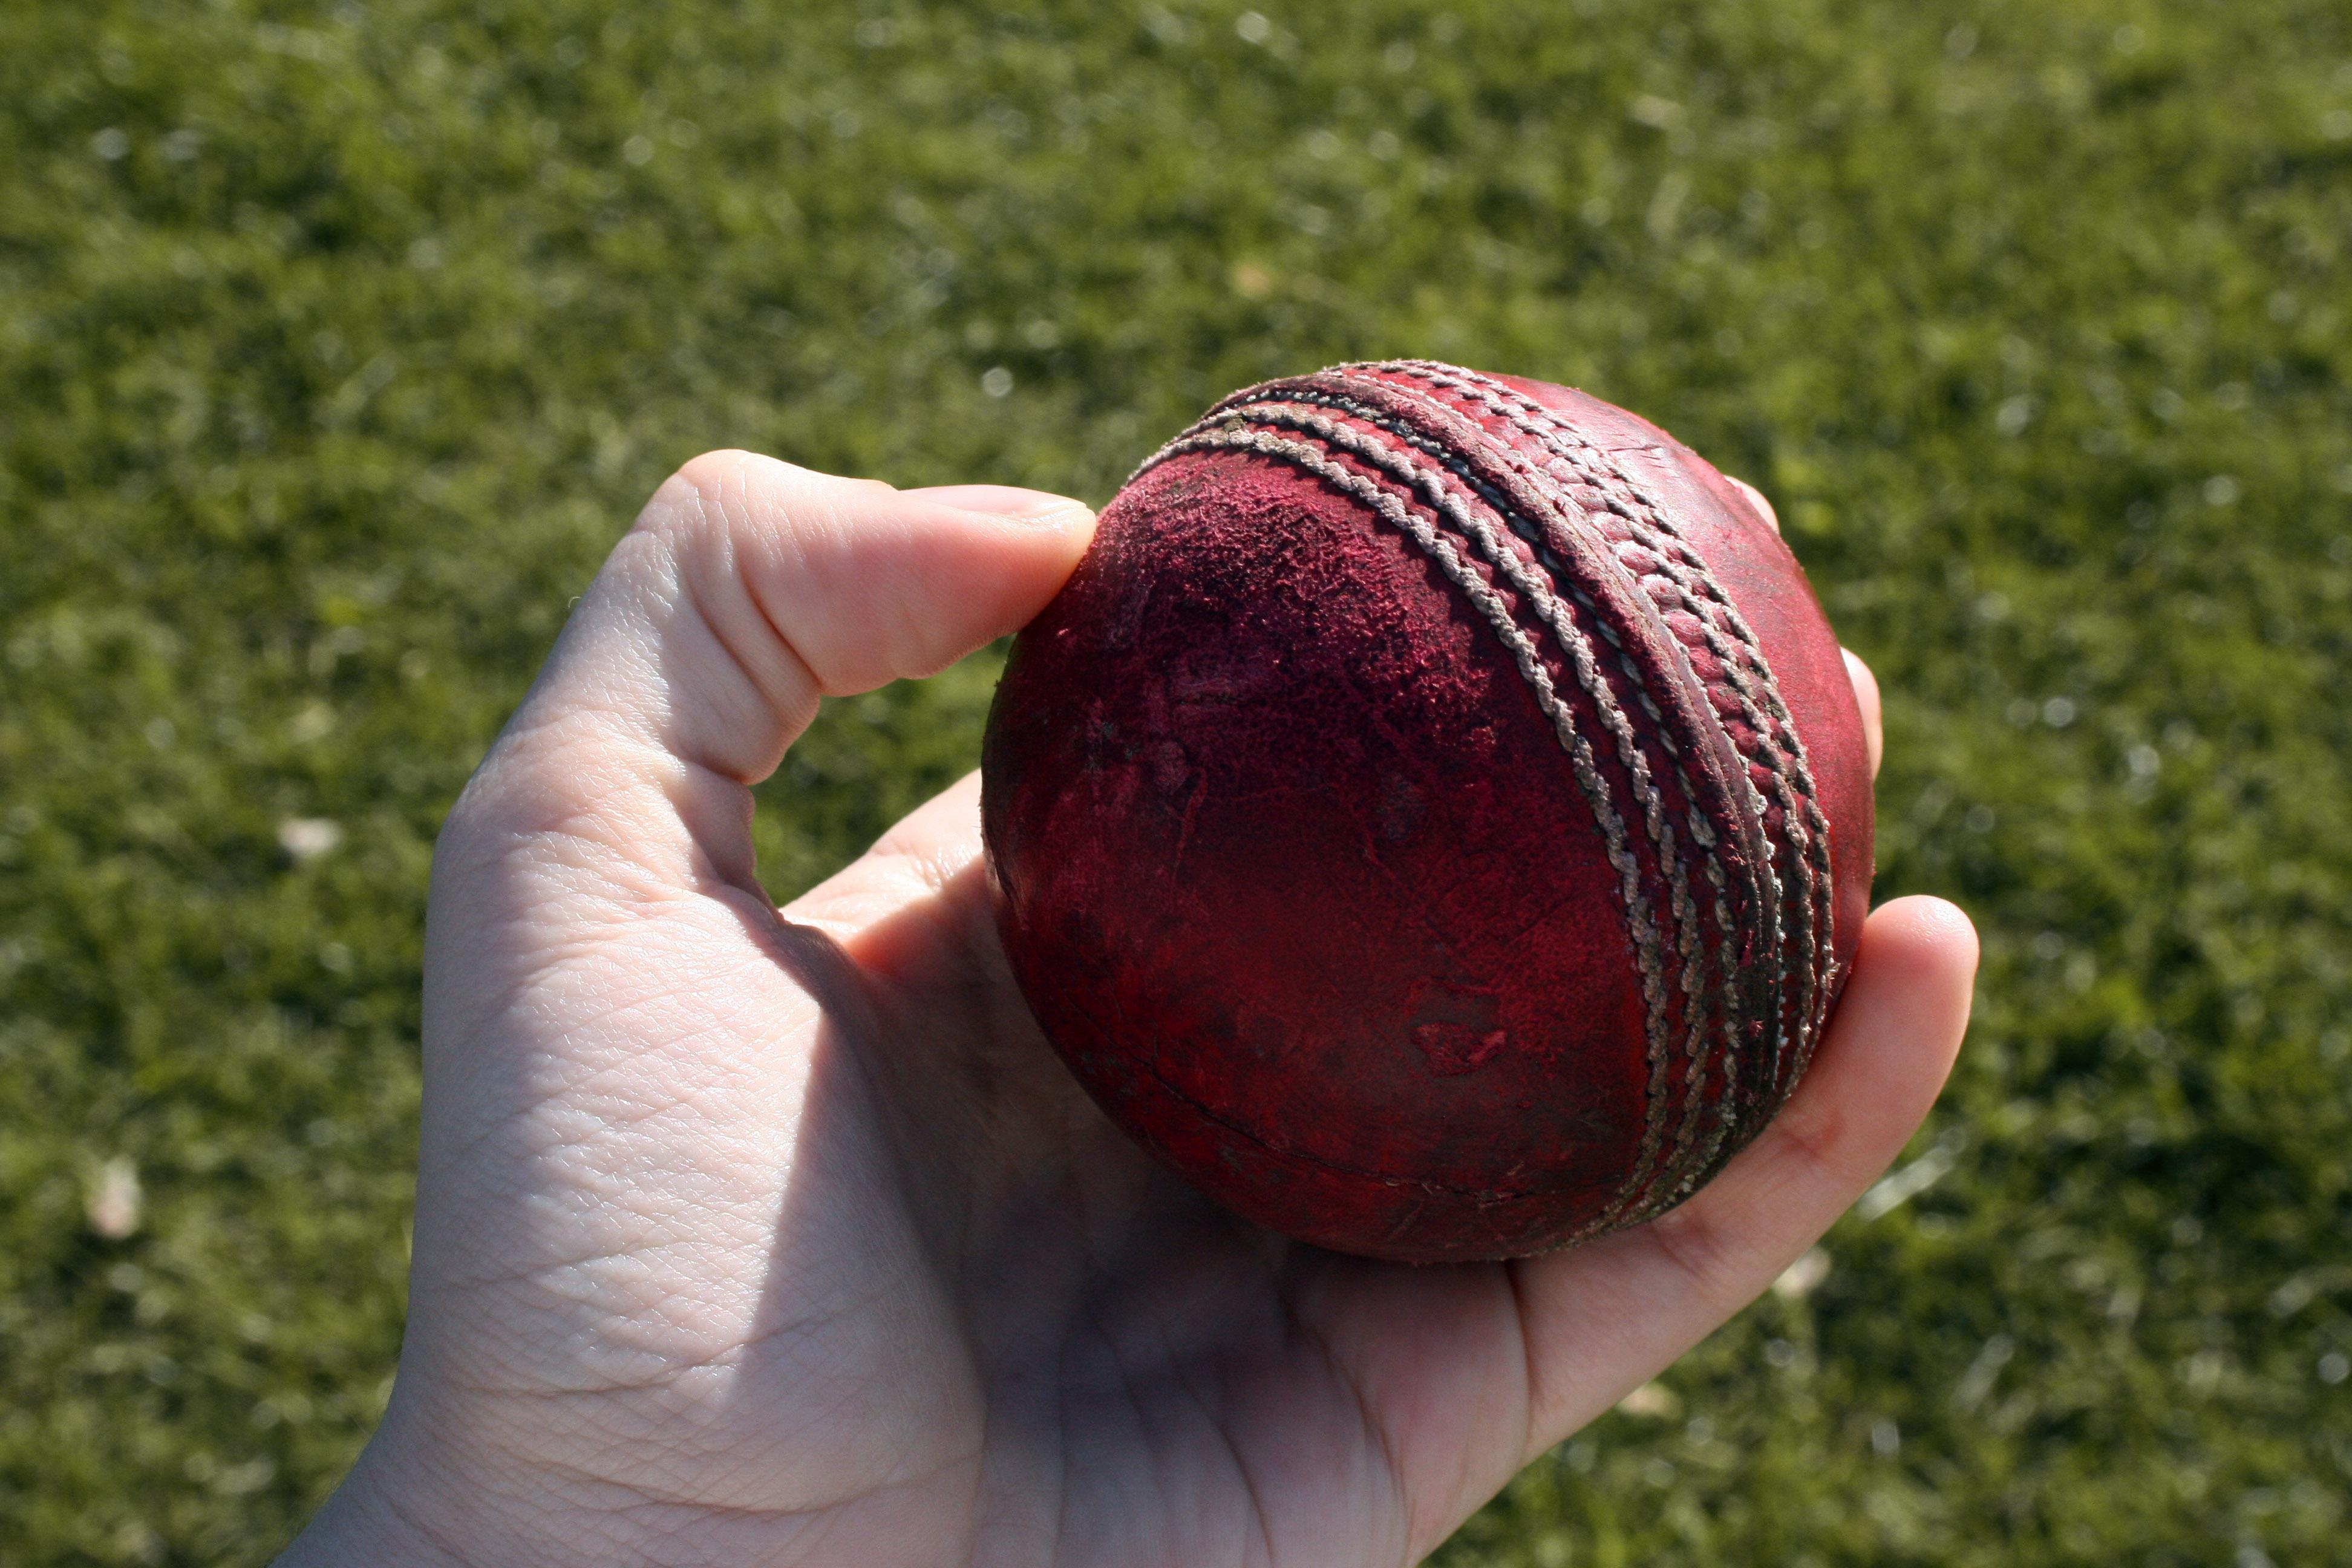Red_Ball: (947, 366, 1883, 1267)
